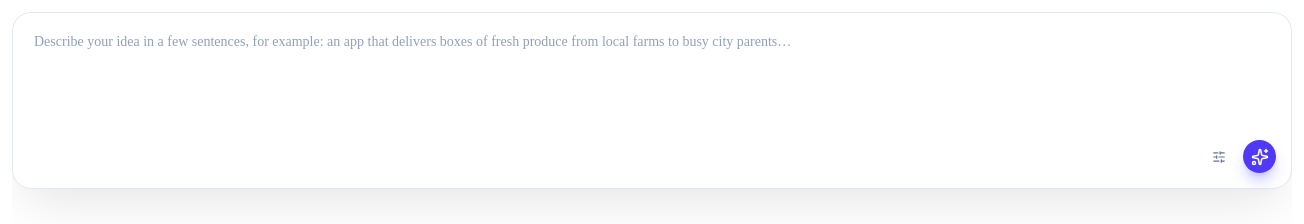
Test: IdeaForm › shows no counter while the idea is far from the limit and, after a failed submit, why it is rejected
Replace the text in the text box labelled "your idea" with "too short". click: (652, 76)
box: [13, 13, 1291, 139]
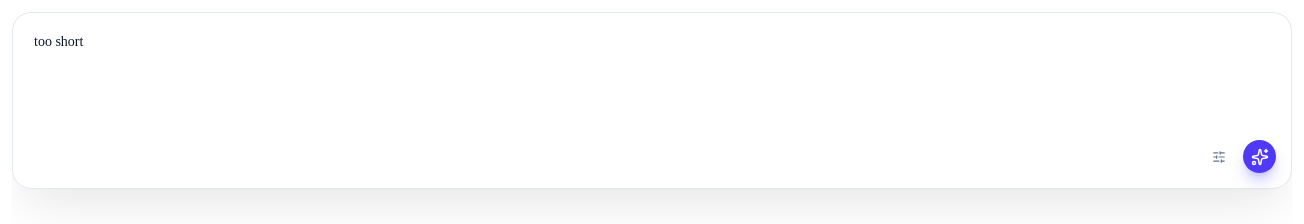
Submit the form named "Start generation"
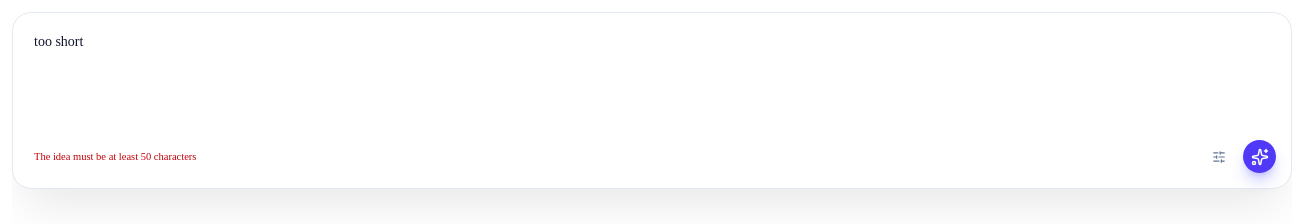
Result: the message reads "The idea must be at least 50 characters" at [34, 150, 196, 162]
